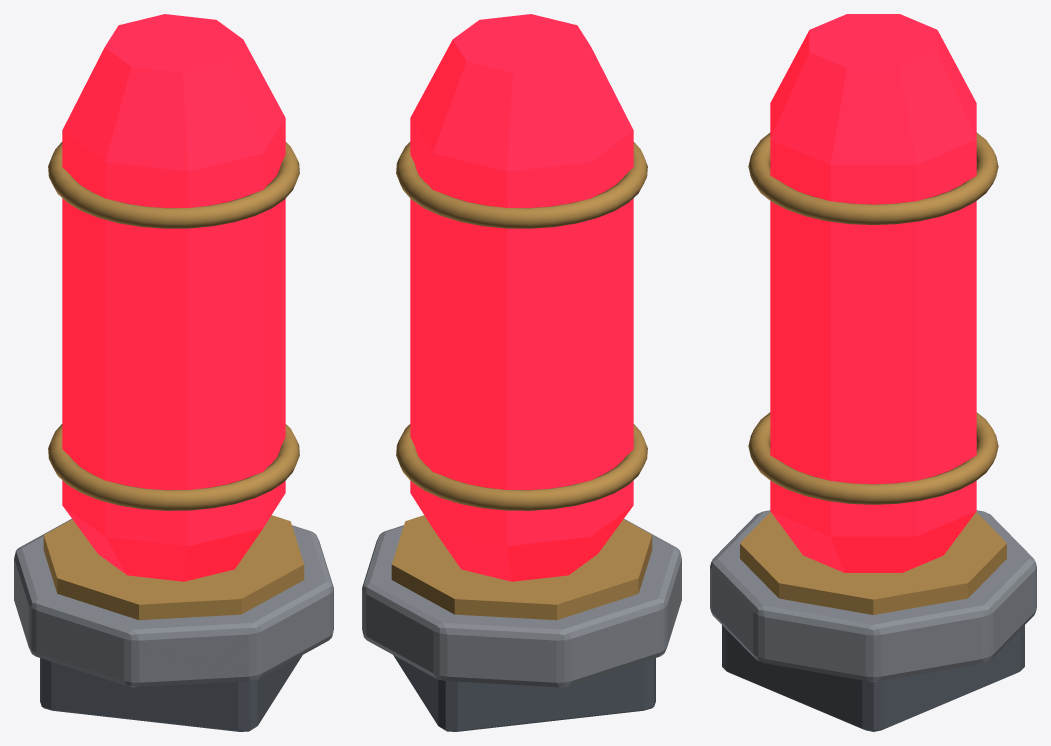
Rendered from Artificial_MagicStone_Obelisk.fbx.
3 renders of one model, left to right at view 1: azimuth 30°, elevation 25°; view 2: azimuth 150°, elevation 25°; view 3: azimuth 270°, elevation 25°, orthographic.
Parts seen in each view (by area): view 1: Core, Pedestal_Upper, Pedestal_Inlay.001, Pedestal_Lower, Core_Band_Lower, Core_Band_Upper; view 2: Core, Pedestal_Upper, Pedestal_Inlay.001, Pedestal_Lower, Core_Band_Lower, Core_Band_Upper; view 3: Core, Pedestal_Upper, Pedestal_Inlay.001, Pedestal_Lower, Core_Band_Lower, Core_Band_Upper.
Boxes of the visible parts, left/top/right/bottom form: Core: left=62, top=14, right=285, bottom=581; Pedestal_Upper: left=14, top=519, right=333, bottom=687; Pedestal_Inlay.001: left=43, top=515, right=304, bottom=620; Pedestal_Lower: left=40, top=655, right=302, bottom=731; Core_Band_Lower: left=48, top=424, right=299, bottom=510; Core_Band_Upper: left=48, top=142, right=299, bottom=228; Core: left=410, top=14, right=633, bottom=581; Pedestal_Upper: left=362, top=519, right=681, bottom=687; Pedestal_Inlay.001: left=391, top=515, right=652, bottom=620; Pedestal_Lower: left=393, top=655, right=655, bottom=731; Core_Band_Lower: left=396, top=424, right=647, bottom=510; Core_Band_Upper: left=396, top=142, right=647, bottom=228; Core: left=770, top=14, right=976, bottom=572; Pedestal_Upper: left=710, top=510, right=1036, bottom=681; Pedestal_Inlay.001: left=740, top=512, right=1006, bottom=614; Pedestal_Lower: left=722, top=625, right=1024, bottom=731; Core_Band_Lower: left=748, top=412, right=998, bottom=504; Core_Band_Upper: left=748, top=132, right=998, bottom=224.
Bounding box in the file's own units: 1.34 × 2.86 × 1.34.
